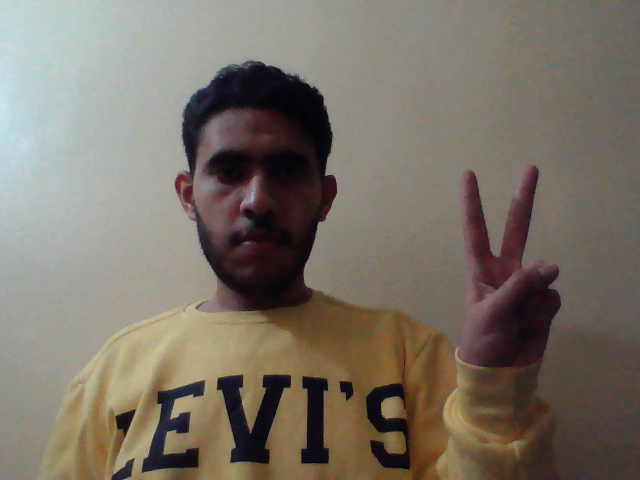V: (450, 158, 562, 387)
